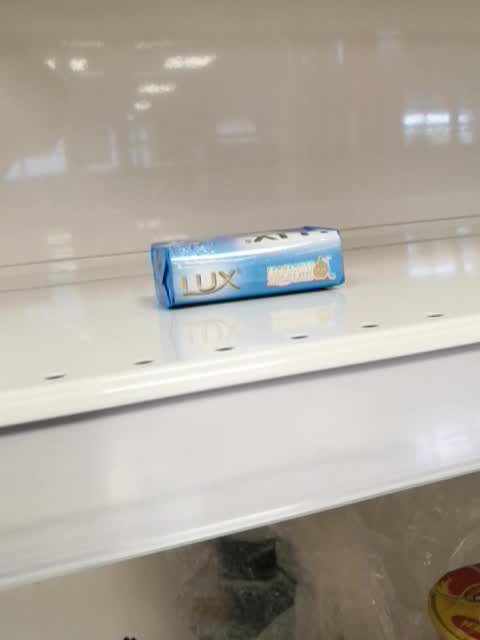soap: (148, 225, 346, 310)
